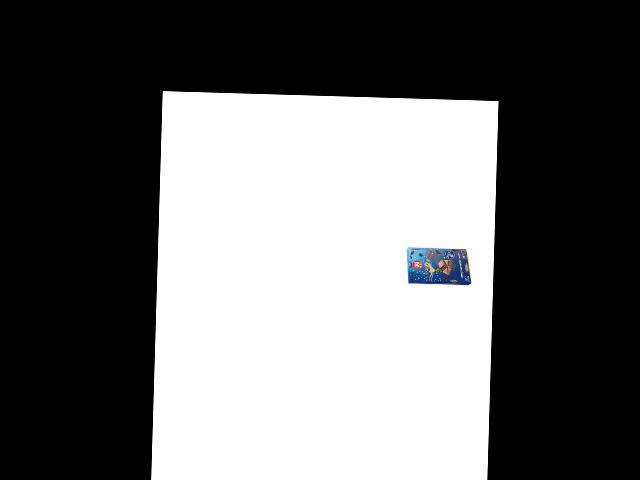chocolate: (404, 242, 472, 289)
